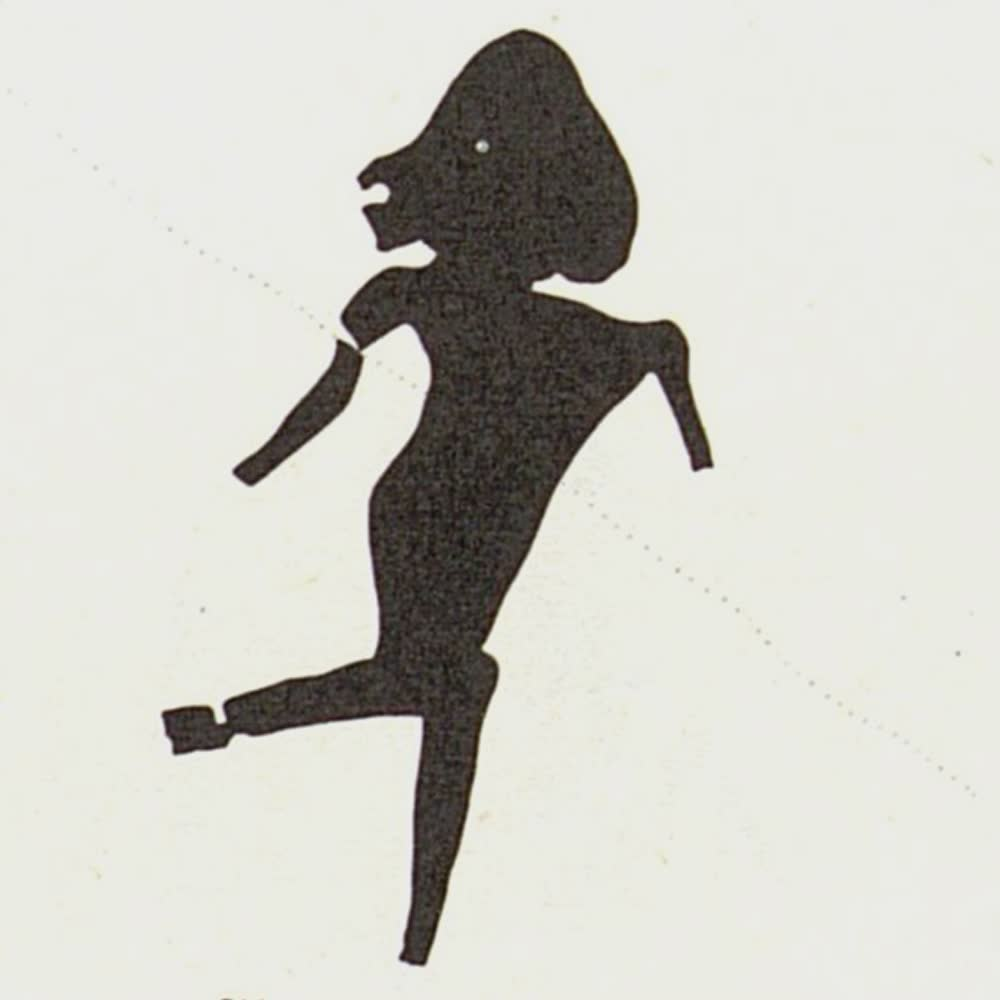woman: (159, 25, 717, 968)
